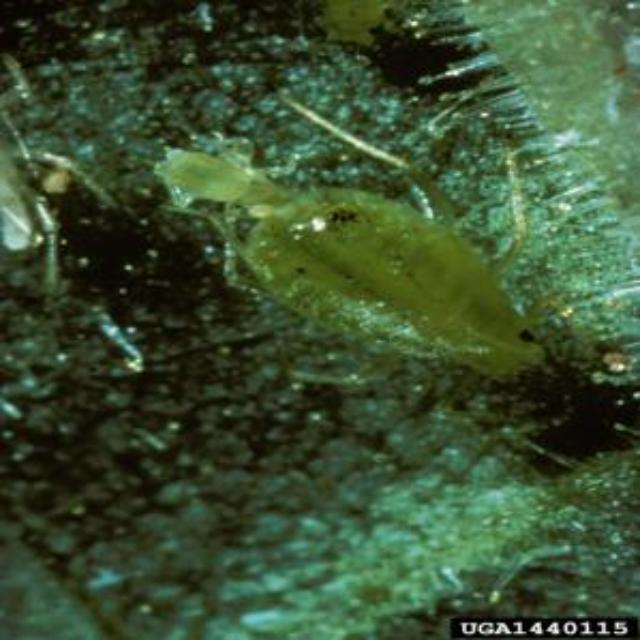Green peach aphid: (148, 116, 594, 438)
